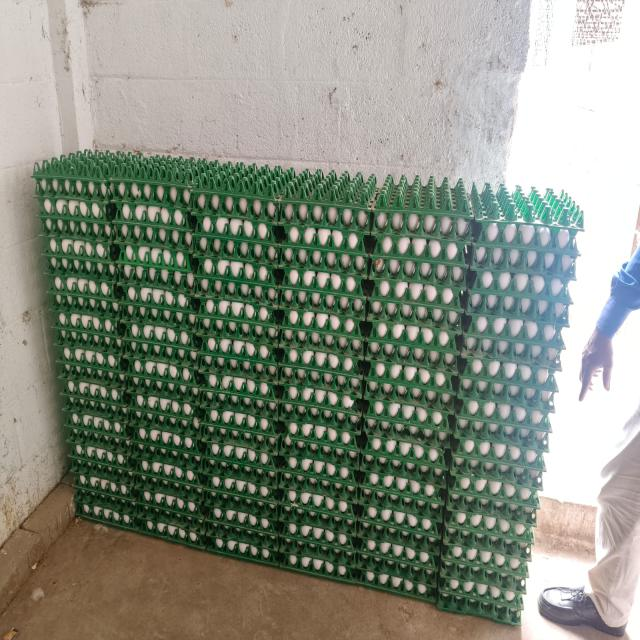egg_tray: (466, 187, 581, 364), (368, 177, 471, 333), (128, 359, 206, 547), (358, 436, 445, 600), (119, 245, 201, 417), (278, 172, 375, 317), (452, 359, 555, 492), (201, 397, 280, 564), (441, 473, 538, 607), (372, 176, 471, 307), (201, 398, 279, 563), (194, 193, 279, 343), (194, 193, 278, 343), (280, 420, 358, 581), (112, 157, 194, 309), (280, 351, 361, 501), (460, 316, 563, 431), (193, 171, 281, 301), (471, 191, 582, 292), (372, 176, 472, 287), (358, 470, 444, 598), (471, 185, 582, 279), (279, 402, 359, 532), (124, 322, 201, 455), (449, 419, 548, 521), (450, 419, 548, 522), (199, 317, 277, 446), (440, 500, 533, 608), (360, 401, 453, 509), (118, 245, 200, 365), (132, 416, 205, 548), (119, 253, 201, 366), (278, 309, 366, 414), (364, 362, 455, 463), (358, 438, 445, 543), (367, 274, 461, 371), (48, 268, 125, 386), (439, 524, 530, 623), (48, 265, 123, 385), (132, 423, 204, 547), (192, 163, 293, 250), (199, 398, 282, 502), (112, 165, 194, 270), (280, 203, 370, 297), (358, 419, 448, 512), (122, 280, 201, 385), (358, 503, 442, 601), (276, 247, 368, 336), (450, 437, 545, 523), (279, 170, 375, 255), (203, 430, 278, 538), (358, 471, 444, 565), (198, 299, 278, 399), (279, 479, 357, 581), (470, 184, 582, 255), (201, 401, 279, 502), (275, 254, 372, 333), (444, 473, 537, 555), (279, 407, 359, 501), (279, 268, 366, 354), (279, 421, 359, 514), (128, 387, 203, 486), (279, 286, 368, 368), (372, 211, 469, 286), (45, 253, 123, 346), (281, 409, 361, 499), (278, 202, 374, 277), (64, 396, 133, 499), (280, 490, 357, 581), (368, 262, 465, 334), (51, 294, 125, 386), (195, 257, 277, 339), (278, 205, 371, 277), (374, 175, 472, 243), (118, 242, 196, 326), (471, 221, 579, 281), (68, 429, 134, 527), (198, 331, 278, 411), (457, 358, 557, 422), (118, 244, 197, 325), (279, 420, 359, 499), (36, 185, 114, 266), (471, 223, 578, 281), (193, 193, 278, 265), (128, 407, 203, 487), (279, 362, 362, 434), (66, 411, 134, 498), (466, 270, 571, 326), (278, 349, 366, 414), (462, 314, 564, 370), (105, 151, 208, 206), (132, 442, 202, 521), (53, 311, 126, 386), (197, 297, 282, 361), (360, 436, 446, 499), (110, 153, 202, 211), (442, 518, 531, 577), (204, 494, 279, 564), (366, 277, 463, 331), (365, 319, 460, 373), (198, 388, 283, 448), (279, 303, 370, 359), (278, 489, 356, 554), (35, 178, 114, 242), (463, 309, 564, 359), (200, 345, 281, 407), (358, 494, 444, 552), (194, 203, 277, 263), (364, 361, 457, 414), (456, 383, 552, 434), (121, 300, 201, 361), (451, 439, 545, 490), (202, 459, 279, 521), (280, 522, 359, 582), (447, 474, 538, 526), (32, 152, 108, 213), (198, 400, 284, 453), (194, 252, 278, 306), (363, 398, 455, 447), (280, 472, 356, 531), (449, 465, 539, 514), (72, 459, 135, 527), (453, 415, 550, 459), (439, 560, 526, 609), (460, 358, 557, 401), (278, 396, 361, 446), (191, 159, 294, 199), (113, 202, 194, 252), (123, 318, 202, 369), (35, 175, 108, 230), (276, 371, 363, 417), (47, 266, 122, 319), (440, 534, 528, 579), (126, 353, 203, 404), (359, 552, 437, 602), (280, 533, 359, 582), (276, 347, 367, 389), (437, 580, 521, 625), (54, 335, 126, 386), (130, 414, 204, 463), (446, 503, 534, 544), (42, 236, 117, 284), (200, 406, 278, 452), (282, 169, 376, 207), (512, 188, 583, 238), (201, 442, 279, 487), (359, 529, 440, 572), (359, 558, 436, 603), (456, 423, 547, 461), (127, 385, 200, 432), (60, 374, 130, 423), (43, 234, 117, 280), (38, 198, 115, 242), (135, 501, 206, 548), (203, 489, 278, 533), (205, 521, 280, 565), (437, 587, 521, 625), (134, 474, 204, 519), (59, 372, 129, 417), (62, 379, 130, 425), (280, 169, 336, 223), (68, 149, 125, 199), (70, 458, 134, 497), (75, 488, 137, 528), (65, 403, 132, 439), (67, 381, 122, 423), (50, 242, 113, 276), (246, 163, 296, 205), (60, 314, 120, 348), (68, 149, 123, 177), (72, 438, 124, 464), (381, 541, 428, 556), (472, 191, 486, 217), (285, 523, 319, 531), (511, 561, 525, 576), (425, 263, 450, 271), (210, 476, 223, 491), (105, 508, 118, 523), (320, 530, 340, 539), (516, 276, 527, 291), (495, 558, 508, 570), (66, 221, 83, 230), (441, 219, 462, 226), (91, 205, 101, 219), (74, 203, 86, 214), (499, 186, 510, 197), (523, 227, 534, 238), (246, 491, 266, 497), (238, 482, 246, 497), (120, 165, 132, 174), (483, 187, 492, 199), (314, 352, 324, 362), (204, 263, 213, 273), (401, 449, 413, 456), (496, 447, 505, 456), (206, 344, 215, 353), (90, 222, 98, 232), (60, 276, 75, 281), (89, 285, 98, 293), (532, 350, 541, 358), (429, 265, 438, 273), (300, 250, 310, 257), (319, 359, 326, 369), (206, 345, 215, 352), (501, 281, 508, 290), (80, 430, 87, 439), (483, 554, 489, 564), (180, 437, 185, 449), (271, 291, 276, 303), (376, 495, 386, 501), (527, 325, 533, 335), (288, 558, 296, 565), (73, 426, 78, 437), (245, 342, 255, 347), (368, 542, 373, 552), (94, 505, 101, 512), (545, 330, 552, 337), (221, 519, 230, 524), (223, 196, 232, 201), (463, 220, 470, 226), (285, 350, 291, 357), (281, 364, 289, 369), (542, 204, 550, 209), (76, 243, 80, 252), (168, 438, 174, 444), (559, 230, 565, 236), (329, 362, 334, 369), (182, 522, 189, 527), (225, 487, 232, 492), (341, 174, 346, 181), (282, 371, 288, 376), (342, 421, 348, 426), (104, 425, 109, 431), (86, 322, 92, 327), (246, 417, 251, 423), (238, 519, 243, 525), (259, 167, 264, 173), (125, 246, 132, 250), (326, 440, 335, 443), (69, 185, 74, 190), (433, 490, 438, 495), (272, 335, 275, 343), (332, 283, 336, 289), (206, 266, 210, 272), (211, 196, 218, 199), (280, 291, 285, 295), (299, 204, 304, 208), (148, 527, 153, 531), (116, 430, 121, 434), (263, 336, 267, 341), (511, 389, 516, 393), (95, 356, 99, 361), (396, 326, 401, 330), (276, 189, 279, 195), (126, 153, 132, 156), (88, 290, 94, 293), (530, 453, 533, 459), (136, 368, 140, 372), (352, 370, 356, 374), (480, 586, 484, 590), (559, 214, 563, 218), (459, 409, 464, 412), (286, 321, 291, 324), (103, 183, 106, 188), (82, 421, 85, 426), (110, 185, 112, 192), (302, 292, 306, 295), (94, 336, 100, 338), (230, 341, 236, 343), (53, 178, 57, 181), (95, 343, 98, 347), (94, 513, 98, 516), (69, 389, 75, 391), (81, 290, 87, 292), (81, 270, 84, 274), (488, 414, 492, 417), (78, 278, 83, 280), (352, 366, 357, 368), (214, 464, 219, 466), (93, 169, 98, 171), (274, 289, 276, 294), (304, 204, 307, 207), (89, 450, 92, 453), (293, 321, 296, 324), (132, 390, 135, 393), (216, 463, 219, 466), (83, 509, 86, 512), (116, 332, 119, 335), (99, 236, 102, 239), (455, 497, 458, 500), (81, 285, 83, 289), (536, 437, 540, 439), (251, 454, 253, 458), (187, 162, 191, 164), (530, 454, 532, 458), (519, 597, 521, 601), (434, 222, 436, 226), (83, 504, 87, 506), (101, 482, 103, 486), (62, 228, 66, 230), (544, 391, 550, 392), (220, 530, 222, 533), (118, 340, 121, 342), (76, 476, 78, 479), (270, 386, 272, 389), (505, 619, 508, 621), (84, 475, 86, 478), (199, 522, 201, 525), (157, 429, 160, 431), (497, 528, 499, 531), (231, 535, 233, 538), (254, 458, 256, 461), (228, 303, 230, 306), (85, 462, 91, 463), (63, 209, 65, 212), (256, 255, 259, 257), (116, 469, 121, 470), (330, 258, 332, 260), (282, 213, 286, 214), (82, 282, 84, 284), (56, 276, 58, 278), (146, 253, 148, 255), (136, 371, 140, 372), (477, 613, 481, 614), (495, 525, 497, 527), (469, 558, 473, 559), (160, 531, 162, 533), (66, 180, 68, 182), (94, 437, 96, 439), (92, 356, 93, 360), (108, 354, 112, 355), (83, 283, 85, 285), (533, 334, 535, 336), (365, 507, 368, 508), (525, 396, 526, 399), (212, 489, 215, 490), (250, 460, 253, 461), (165, 250, 168, 251), (160, 436, 161, 439), (247, 455, 248, 458), (252, 454, 253, 457), (111, 363, 114, 364), (542, 436, 544, 437), (414, 287, 416, 288), (368, 287, 370, 288), (450, 488, 451, 490), (465, 422, 466, 424), (337, 443, 339, 444), (280, 187, 282, 188), (345, 370, 346, 372), (493, 228, 494, 230), (505, 508, 506, 510), (252, 387, 254, 388), (112, 441, 114, 442), (498, 558, 499, 560), (197, 205, 199, 206), (172, 434, 174, 435), (134, 427, 136, 428), (70, 185, 71, 187), (85, 317, 86, 319), (78, 378, 80, 379), (211, 471, 213, 472), (218, 469, 220, 470), (253, 336, 255, 337), (102, 422, 104, 423), (545, 434, 546, 436), (454, 471, 455, 472), (396, 585, 397, 586), (520, 397, 521, 398), (198, 205, 199, 206), (489, 609, 490, 610), (498, 529, 499, 530), (398, 300, 399, 301), (452, 498, 453, 499), (349, 509, 350, 510), (78, 345, 79, 346), (111, 265, 112, 266), (226, 305, 227, 306), (287, 529, 288, 530), (529, 227, 530, 228), (89, 505, 90, 506), (117, 349, 118, 350), (63, 238, 64, 239), (85, 247, 85, 247), (432, 372, 432, 373), (472, 589, 472, 590), (543, 437, 543, 438), (504, 363, 514, 363), (230, 482, 230, 483), (312, 360, 312, 361), (496, 539, 497, 539), (125, 253, 125, 255), (490, 616, 490, 617), (470, 506, 470, 507), (132, 422, 132, 423), (168, 365, 168, 366), (376, 401, 380, 401), (68, 398, 68, 399), (272, 544, 272, 546), (151, 356, 153, 356), (532, 291, 532, 292), (539, 200, 539, 201), (222, 470, 224, 470), (207, 301, 208, 301), (259, 192, 259, 193), (283, 217, 283, 217), (69, 207, 72, 207), (136, 382, 136, 383), (150, 403, 150, 403)
